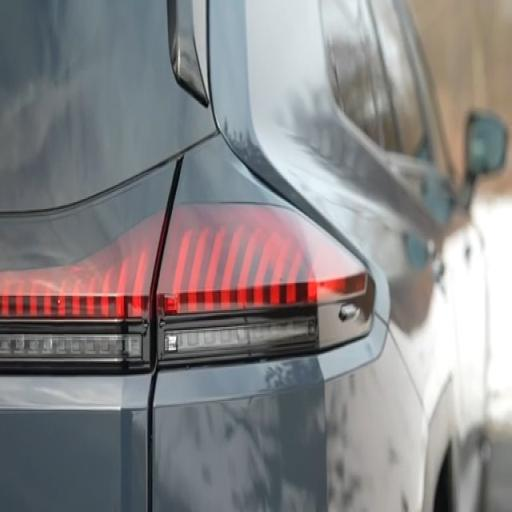bumper: (0, 319, 423, 511)
door: (396, 0, 486, 490), (447, 181, 487, 482)
side_mirror: (464, 113, 507, 206)
taillight: (157, 204, 373, 362), (0, 211, 164, 362)
window: (0, 0, 215, 211), (372, 0, 434, 162), (321, 0, 379, 143)
